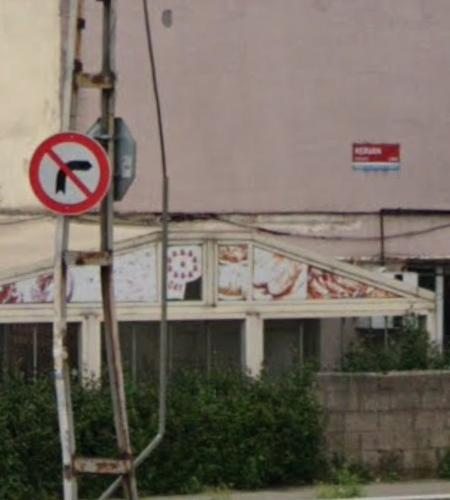rightturnsareforbidden: (30, 133, 111, 215)
